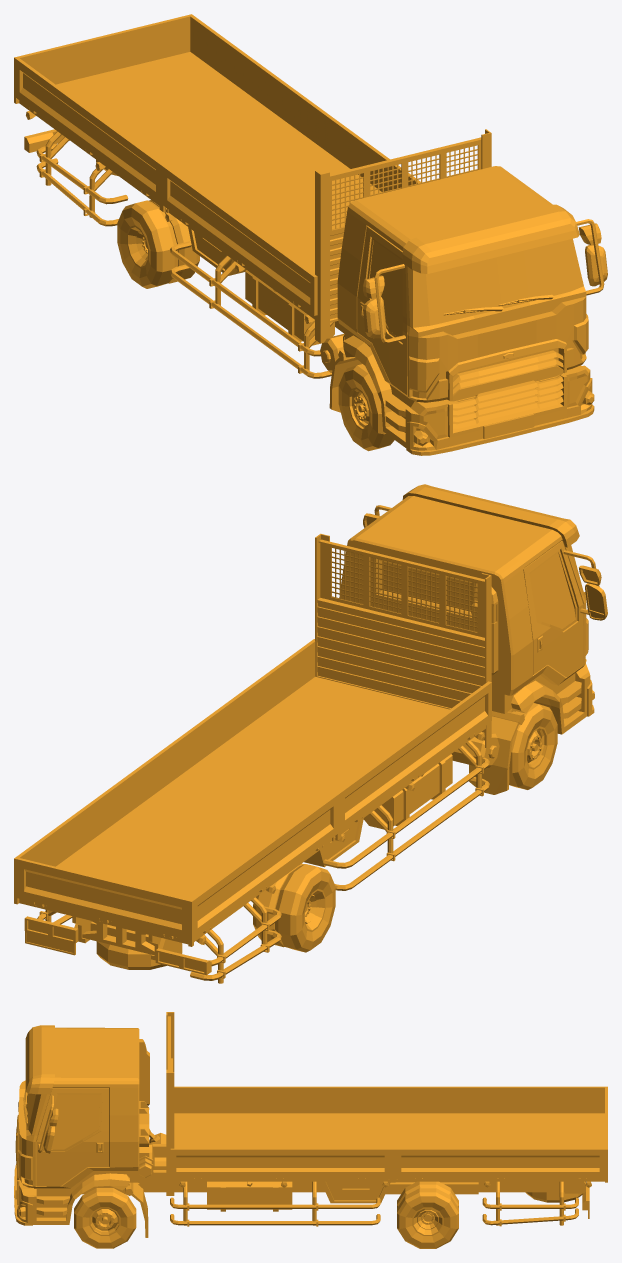
The model's file is SM_Car_Truck_Modern_LoadingPlatform.fbx.
The picture shows the model from 3 angles, top to bottom: view 1: azimuth 30°, elevation 25°; view 2: azimuth 150°, elevation 25°; view 3: azimuth 270°, elevation 25°; orthographic projection. The views are drawn at different scales.
Parts seen in each view (by area): view 1: truck-modern-loading-platform-base, truck-modern-loading-platform-side-door-rfr, truck-modern-loading-platform-side-door-rba, truck-modern-loading-platform-door-right, truck-modern-loading-platform-door-back, truck-modern-loading-platform-side-door-lba, truck-modern-loading-platform-wheel-rba, truck-modern-loading-platform-wheel-rfr, truck-modern-loading-platform-side-door-lfr, truck-modern-loading-platform-door-left; view 2: truck-modern-loading-platform-base, truck-modern-loading-platform-door-right, truck-modern-loading-platform-door-back, truck-modern-loading-platform-side-door-rfr, truck-modern-loading-platform-side-door-rba, truck-modern-loading-platform-side-door-lfr, truck-modern-loading-platform-side-door-lba, truck-modern-loading-platform-wheel-rba, truck-modern-loading-platform-wheel-rfr; view 3: truck-modern-loading-platform-base, truck-modern-loading-platform-side-door-lfr, truck-modern-loading-platform-side-door-lba, truck-modern-loading-platform-door-left, truck-modern-loading-platform-side-door-rfr, truck-modern-loading-platform-side-door-rba, truck-modern-loading-platform-wheel-lba, truck-modern-loading-platform-wheel-lfr.
Boxes of the visible parts, box(x1,y1,x2,y2) form: truck-modern-loading-platform-base: box(14, 14, 594, 455); truck-modern-loading-platform-side-door-rfr: box(163, 166, 317, 315); truck-modern-loading-platform-side-door-rba: box(16, 58, 162, 202); truck-modern-loading-platform-door-right: box(357, 226, 407, 395); truck-modern-loading-platform-door-back: box(18, 15, 190, 84); truck-modern-loading-platform-side-door-lba: box(190, 15, 336, 156); truck-modern-loading-platform-wheel-rba: box(117, 200, 199, 288); truck-modern-loading-platform-wheel-rfr: box(338, 364, 394, 451); truck-modern-loading-platform-side-door-lfr: box(337, 123, 420, 191); truck-modern-loading-platform-door-left: box(576, 219, 607, 295); truck-modern-loading-platform-base: box(14, 484, 594, 983); truck-modern-loading-platform-door-right: box(523, 541, 607, 677); truck-modern-loading-platform-door-back: box(17, 858, 189, 939); truck-modern-loading-platform-side-door-rfr: box(338, 681, 491, 830); truck-modern-loading-platform-side-door-rba: box(191, 794, 337, 938); truck-modern-loading-platform-side-door-lfr: box(163, 639, 315, 784); truck-modern-loading-platform-side-door-lba: box(16, 752, 162, 866); truck-modern-loading-platform-wheel-rba: box(253, 863, 335, 952); truck-modern-loading-platform-wheel-rfr: box(509, 703, 557, 789); truck-modern-loading-platform-base: box(14, 1012, 607, 1237); truck-modern-loading-platform-side-door-lfr: box(170, 1148, 390, 1177); truck-modern-loading-platform-side-door-lba: box(395, 1148, 604, 1177); truck-modern-loading-platform-door-left: box(36, 1088, 108, 1186); truck-modern-loading-platform-side-door-rfr: box(174, 1086, 390, 1113); truck-modern-loading-platform-side-door-rba: box(395, 1086, 604, 1113); truck-modern-loading-platform-wheel-lba: box(397, 1181, 458, 1248); truck-modern-loading-platform-wheel-lfr: box(74, 1188, 136, 1248).
Size of the model in its own units: 3.28 by 3.15 by 9.64.
